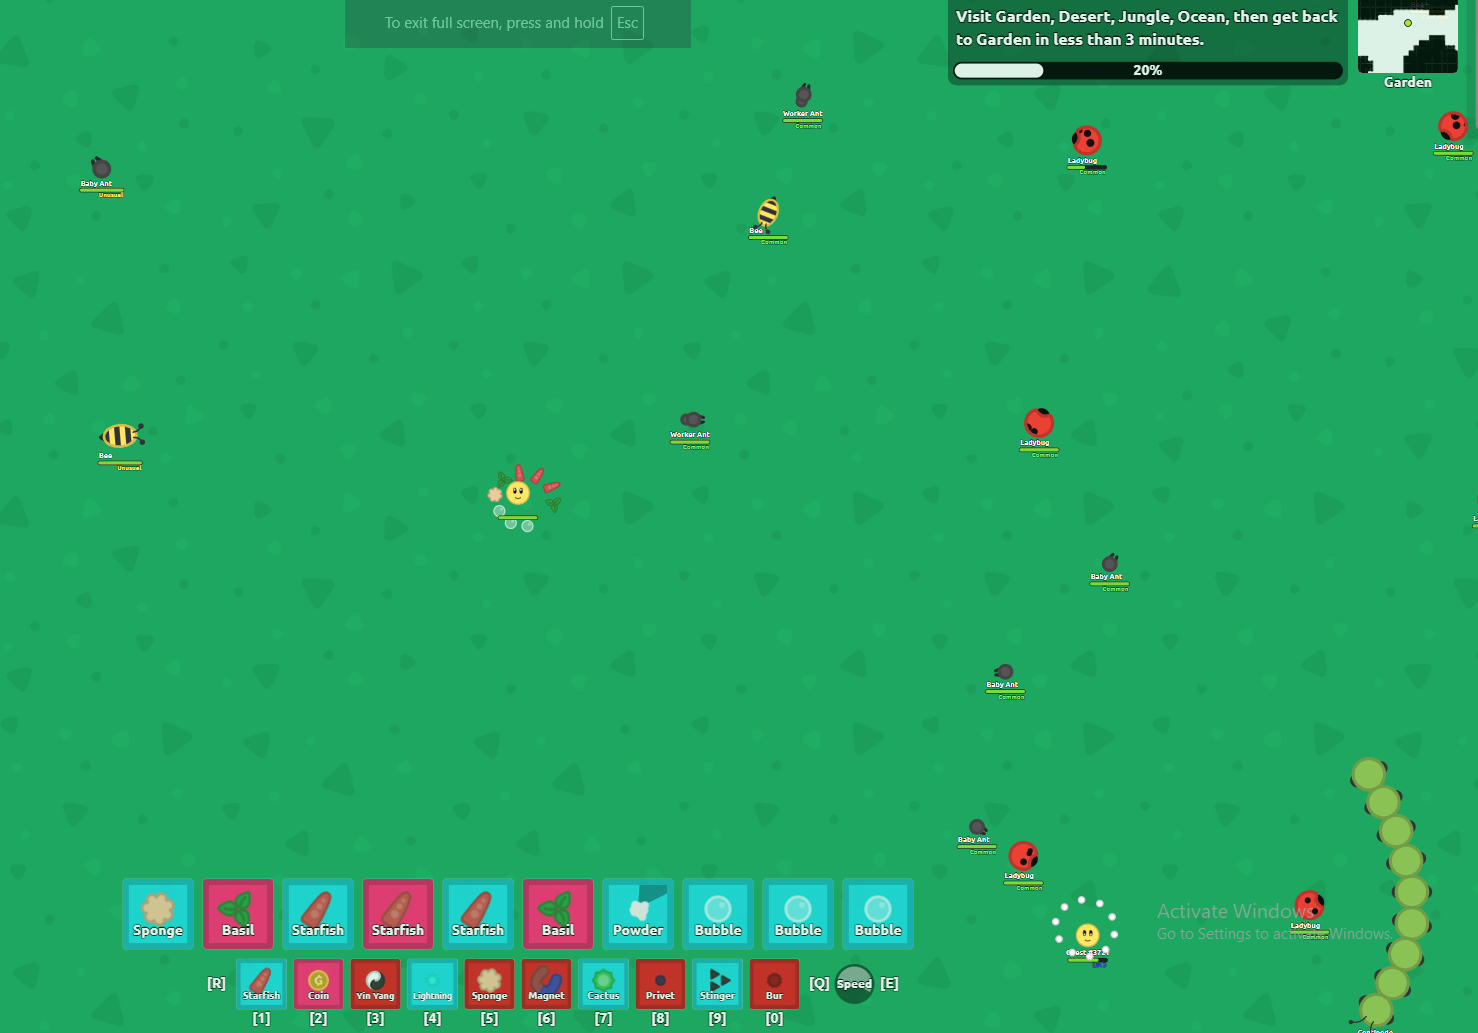Baby Ant: (88, 154, 113, 180), (1101, 551, 1120, 573), (994, 663, 1015, 682), (968, 818, 988, 837)
Bee: (98, 422, 147, 450), (750, 195, 780, 237)
Centipede: (1384, 845, 1428, 879), (1347, 757, 1390, 791), (1364, 785, 1406, 819), (1375, 813, 1417, 847), (1391, 876, 1434, 908), (1384, 938, 1428, 969), (1390, 908, 1433, 939), (1372, 969, 1415, 1000), (1357, 996, 1396, 1028)
Ladybug: (1007, 838, 1043, 874), (1022, 404, 1057, 440), (1070, 122, 1105, 158), (1436, 109, 1471, 144), (1293, 889, 1328, 923)
Worker Ant: (791, 82, 815, 112), (678, 408, 708, 431)
